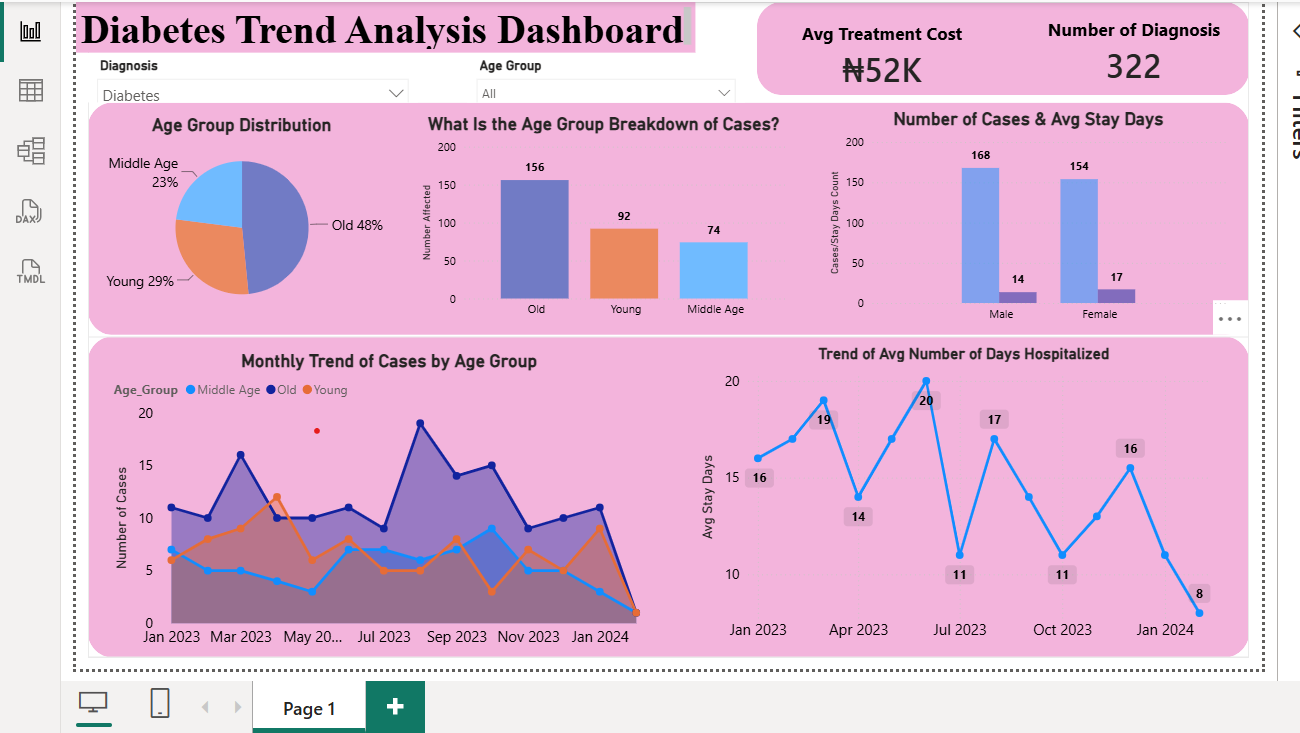

What the dashboard file says about the page in this screenshot:
{"tool":"powerbi","page":{"name":"Page 1","canvas":[1280,720],"ordinal":0},"visuals":[{"type":"group","id":"g1","title":"Background","box":[13,0,1253.3,707.6],"z":0},{"type":"shape","box":[735.2,0,531.1,100.4],"z":0,"group":"g1"},{"type":"slicer","fields":{"Values":["Diagnosis_dataset.Diagnosis"]},"box":[13,55.1,356.2,53.4],"z":0,"group":"g2"},{"type":"slicer","fields":{"Values":["Diagnosis_dataset.Age_Group"]},"box":[422.7,55.1,299.6,53.4],"z":1000,"group":"g2"},{"type":"shape","box":[13,108.5,1253.3,251],"z":1000,"group":"g1"},{"type":"lineChart","title":"Trend of Avg Number of Days Hospitalized ","fields":{"Y":["Median(Diagnosis_dataset.Length_of_Stay_Days)"],"Category":["Diagnosis_dataset.Visit_Date.Variation.Date Hierarchy.Year","Diagnosis_dataset.Visit_Date.Variation.Date Hierarchy.Month"]},"box":[668.7,369.2,579.7,330.3],"z":1000},{"type":"cardVisual","fields":{"Data":["Median(Diagnosis_dataset.Treatment_Cost)"]},"box":[722.2,8.1,296.3,100.4],"z":2000},{"type":"shape","box":[13,361.1,1253.3,346.5],"z":2000,"group":"g1"},{"type":"cardVisual","fields":{"Data":["CountNonNull(Diagnosis_dataset.Diagnosis)"]},"box":[1018.5,0,247.7,108.5],"z":3000},{"type":"areaChart","title":"Monthly Trend of Cases by Age Group","fields":{"Category":["Diagnosis_dataset.Visit_Date.Variation.Date Hierarchy.Year","Diagnosis_dataset.Visit_Date.Variation.Date Hierarchy.Month"],"Y":["CountNonNull(Diagnosis_dataset.Diagnosis)"],"Series":["Diagnosis_dataset.Age_Group"]},"box":[35.9,376.1,604.7,330.7],"z":4000},{"type":"clusteredColumnChart","title":"Number of Cases & Avg Stay Days","fields":{"Category":["Diagnosis_dataset.Gender"],"Y":["CountNonNull(Diagnosis_dataset.Diagnosis)","Median(Diagnosis_dataset.Length_of_Stay_Days)"]},"box":[808,115,440.4,239.6],"z":5000},{"type":"clusteredColumnChart","title":"What Is the Age Group Breakdown of Cases?","fields":{"Category":["Diagnosis_dataset.Age_Group"],"Y":["CountNonNull(Diagnosis_dataset.Diagnosis)"]},"box":[367.6,119.8,404.8,229.9],"z":6000},{"type":"pieChart","title":"Age Group Distribution","fields":{"Category":["Diagnosis_dataset.Age_Group"],"Y":["CountNonNull(Diagnosis_dataset.Diagnosis)"]},"box":[13,121.4,331.9,221.8],"z":7000},{"type":"textbox","box":[0,0,669,54.8],"z":8000},{"type":"group","id":"g2","title":"Slicers","box":[13,55.1,709.2,53.4],"z":9000}]}

Visuals, with their boxes on the page's 1280x720 design canvas (x1, y1, x2, y2). These are canvas units, not pixel positions in the 1300x733 screenshot, which may show the page scaled, cropped or inside an application window:
"Background" group: BBox(13, 0, 1266, 708)
shape: BBox(735, 0, 1266, 100)
slicer - Diagnosis_dataset.Diagnosis: BBox(13, 55, 369, 108)
slicer - Diagnosis_dataset.Age_Group: BBox(423, 55, 722, 108)
shape: BBox(13, 108, 1266, 360)
"Trend of Avg Number of Days Hospitalized " lineChart: BBox(669, 369, 1248, 700)
cardVisual - Median(Diagnosis_dataset.Treatment_Cost): BBox(722, 8, 1018, 108)
shape: BBox(13, 361, 1266, 708)
cardVisual - CountNonNull(Diagnosis_dataset.Diagnosis): BBox(1018, 0, 1266, 108)
"Monthly Trend of Cases by Age Group" areaChart: BBox(36, 376, 641, 707)
"Number of Cases & Avg Stay Days" clusteredColumnChart: BBox(808, 115, 1248, 355)
"What Is the Age Group Breakdown of Cases?" clusteredColumnChart: BBox(368, 120, 772, 350)
"Age Group Distribution" pieChart: BBox(13, 121, 345, 343)
textbox: BBox(0, 0, 669, 55)
"Slicers" group: BBox(13, 55, 722, 108)
